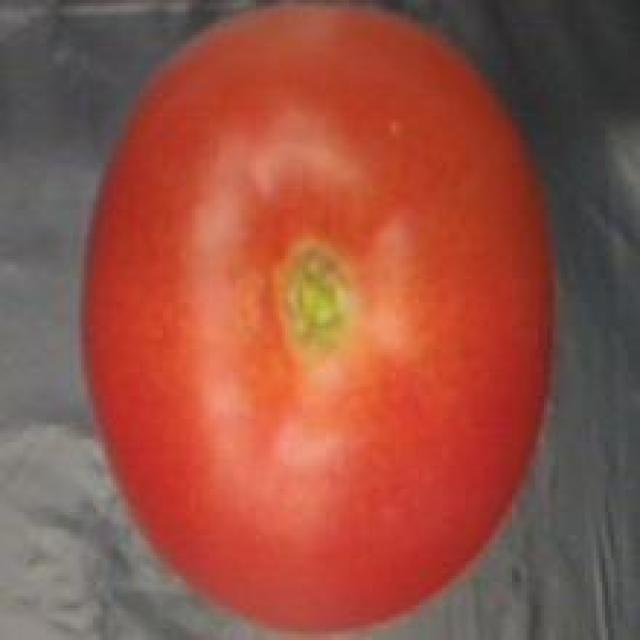ripe tomato: (73, 0, 561, 640)
